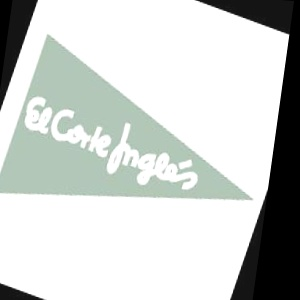corte_ingles: (278, 27, 290, 80)
